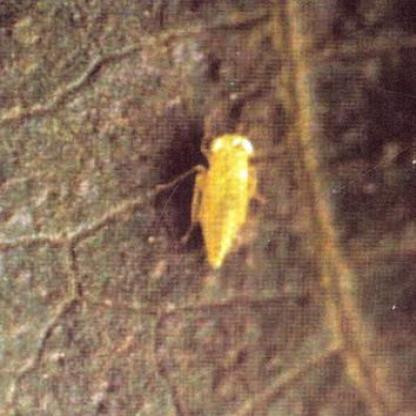Green-Leafhopper: (171, 122, 272, 271)
